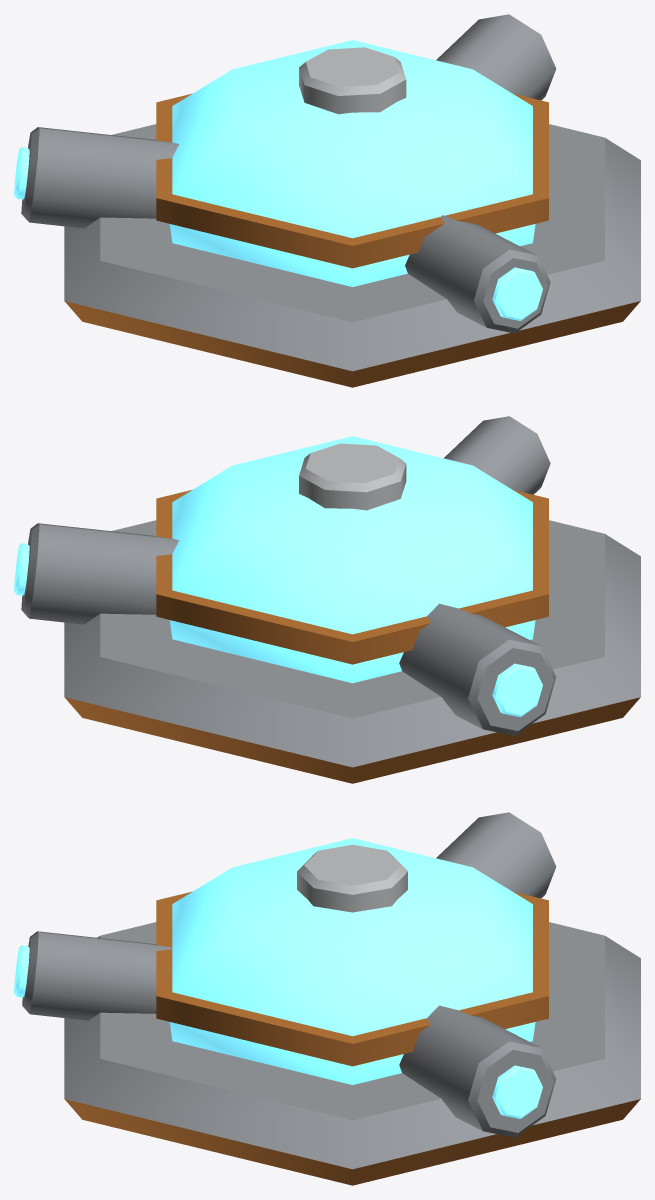
The model's file is R4D_SlowTrap_LOD1.fbx.
The picture shows the model from 3 angles, top to bottom: view 1: azimuth 30°, elevation 25°; view 2: azimuth 150°, elevation 25°; view 3: azimuth 270°, elevation 25°; orthographic projection.
Parts seen in each view (by area): view 1: R4D_SlowTrap_LOD1; view 2: R4D_SlowTrap_LOD1; view 3: R4D_SlowTrap_LOD1.
Part boxes in pixels (box(x1,y1,x2,y2)): R4D_SlowTrap_LOD1: box(14, 14, 640, 387); R4D_SlowTrap_LOD1: box(14, 416, 640, 783); R4D_SlowTrap_LOD1: box(14, 812, 640, 1185).
Bounding box in the file's own units: 0.48 × 0.15 × 0.452.
